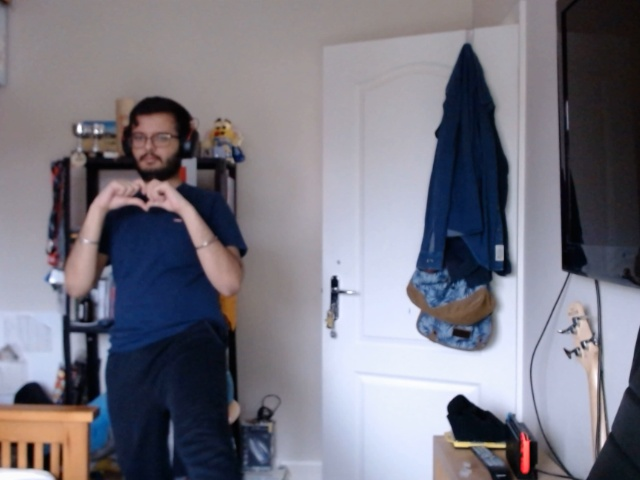Heart: (112, 179, 177, 218)
